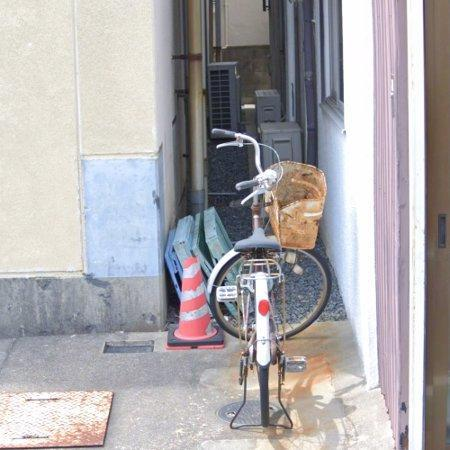bicycles: (208, 130, 331, 428)
